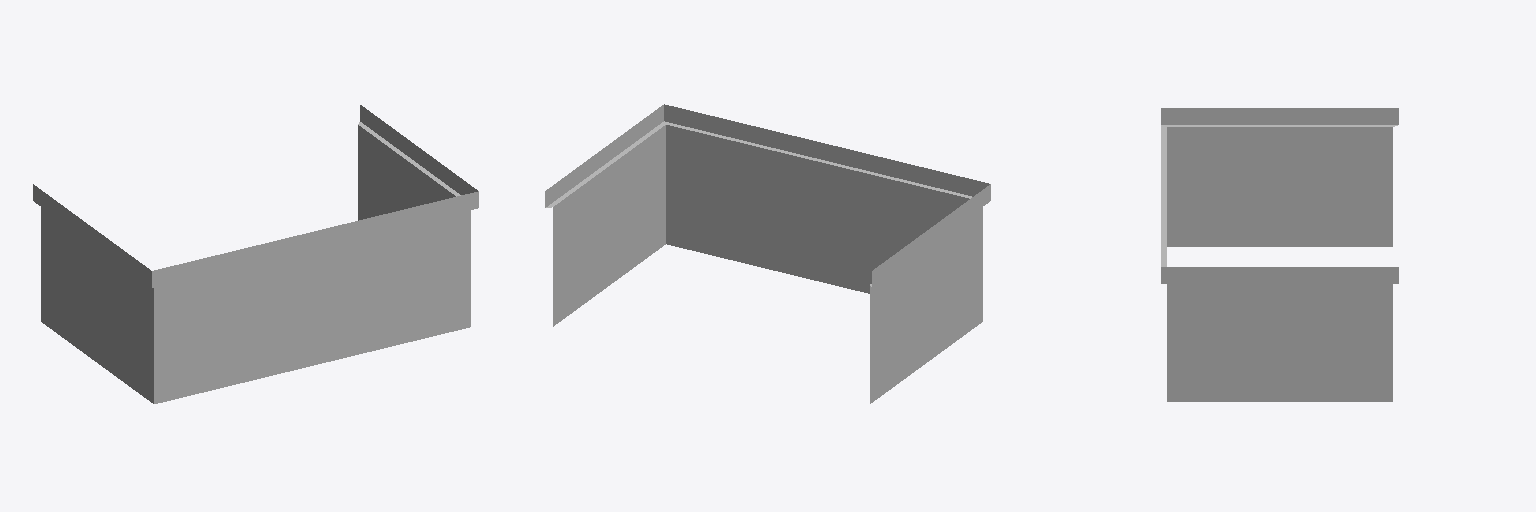
Rendered from industry_build_2.obj.
3 renders of one model, left to right at view 1: azimuth 30°, elevation 25°; view 2: azimuth 150°, elevation 25°; view 3: azimuth 270°, elevation 25°, orthographic.
Visible parts, largest first — view 1: IndustryBuild2_00; view 2: IndustryBuild2_00; view 3: IndustryBuild2_00.
Boxes of the visible parts, box(x1,y1,x2,y2) form: IndustryBuild2_00: box(33, 105, 478, 403); IndustryBuild2_00: box(545, 104, 990, 403); IndustryBuild2_00: box(1161, 108, 1398, 401).
Bounding box in the file's own units: 20 × 8 × 12.6.